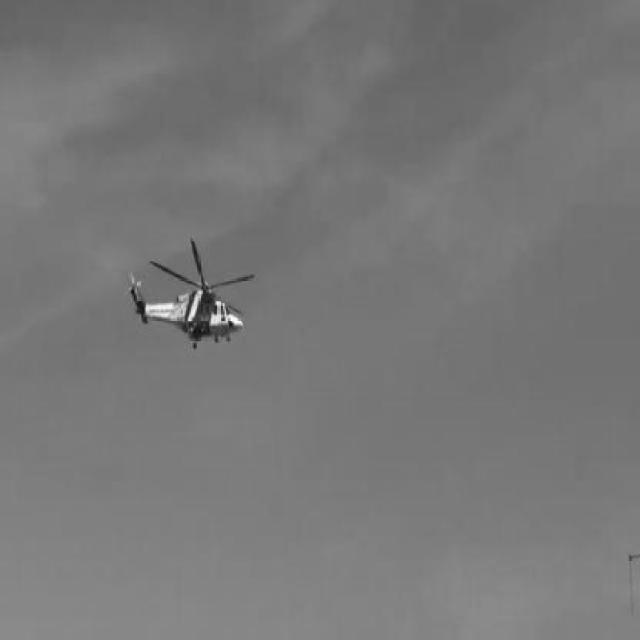helikopter: (126, 236, 252, 350)
